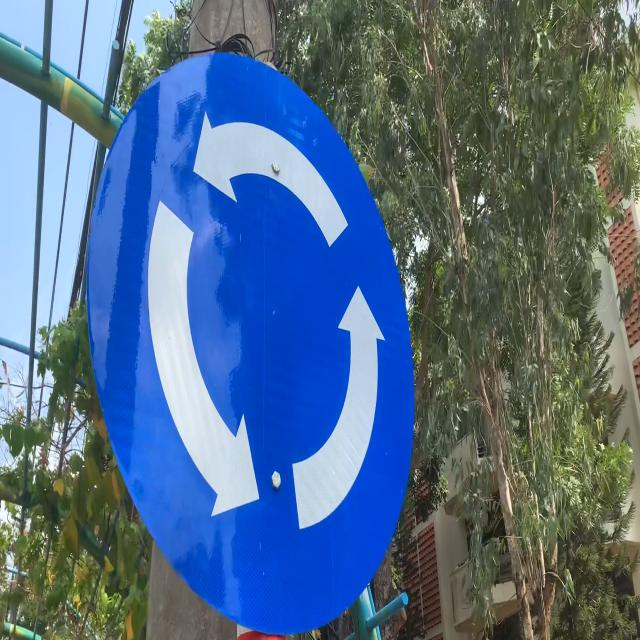R.303: (82, 46, 417, 640)
